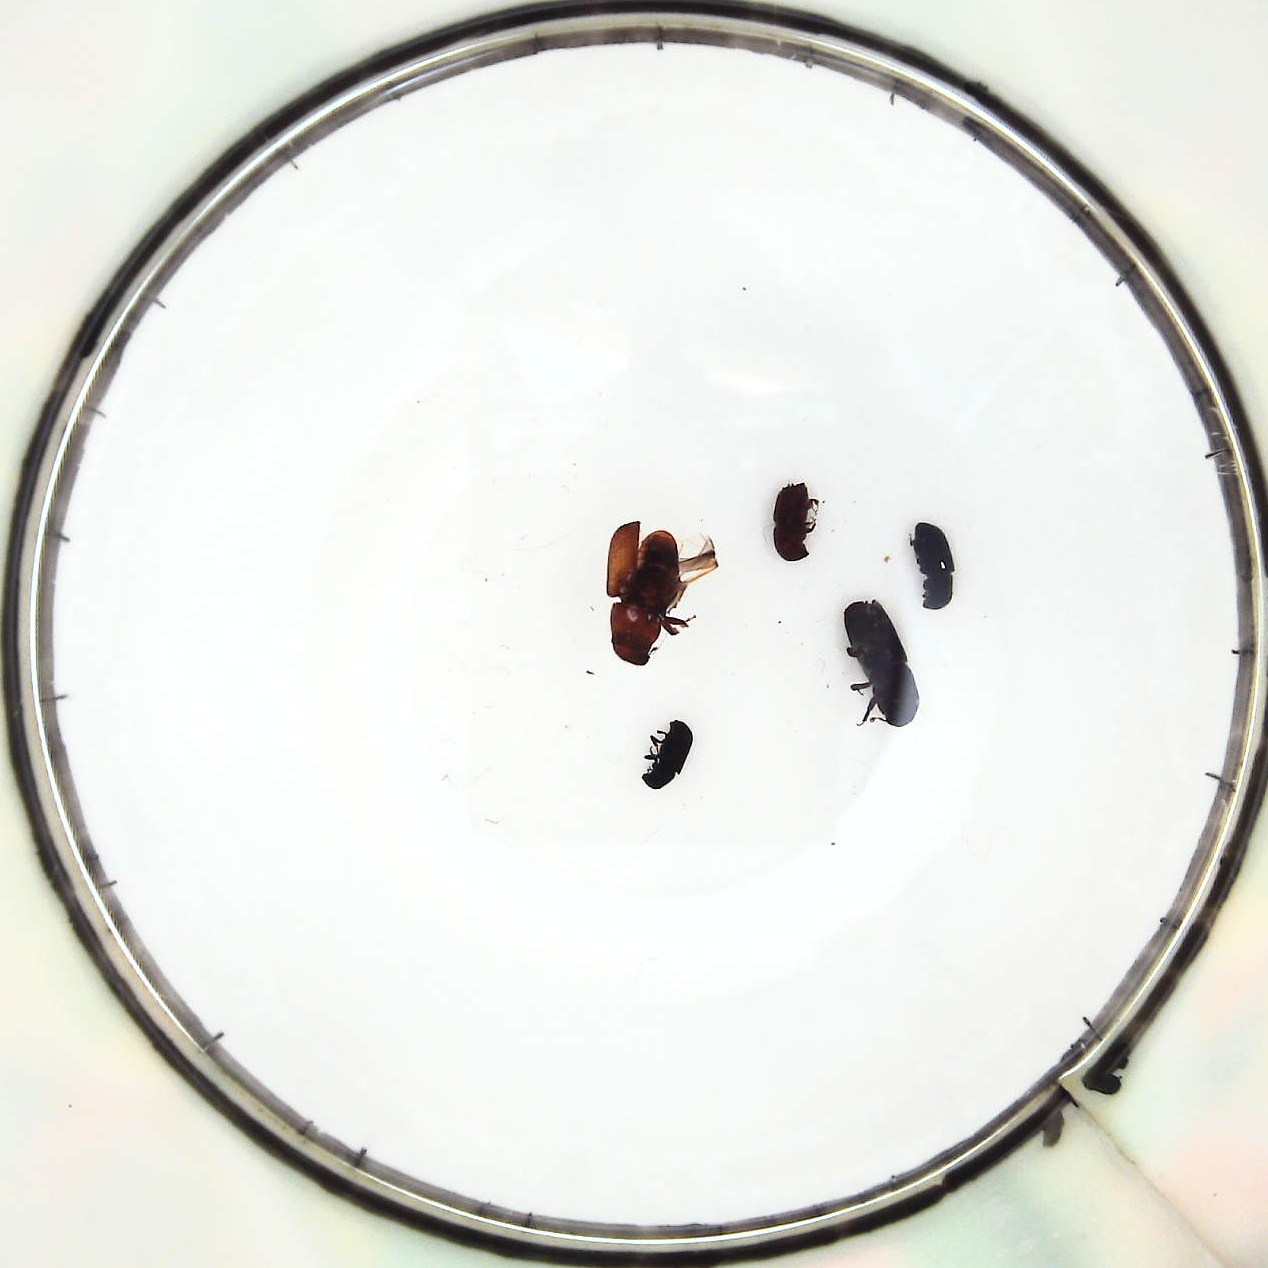Boerner: (840, 601, 916, 726)
Leconte: (604, 517, 716, 663)
Linnaeus: (769, 487, 817, 560)
armandi: (906, 517, 961, 614)
coleoptera: (640, 714, 699, 792)
